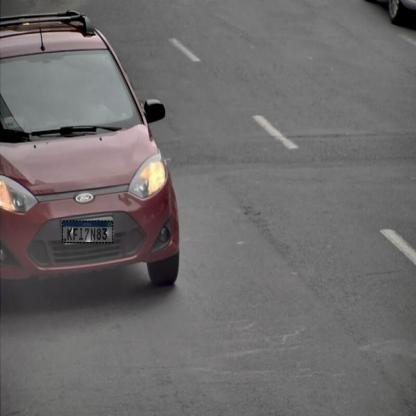PlacaM: (62, 221, 113, 244)
